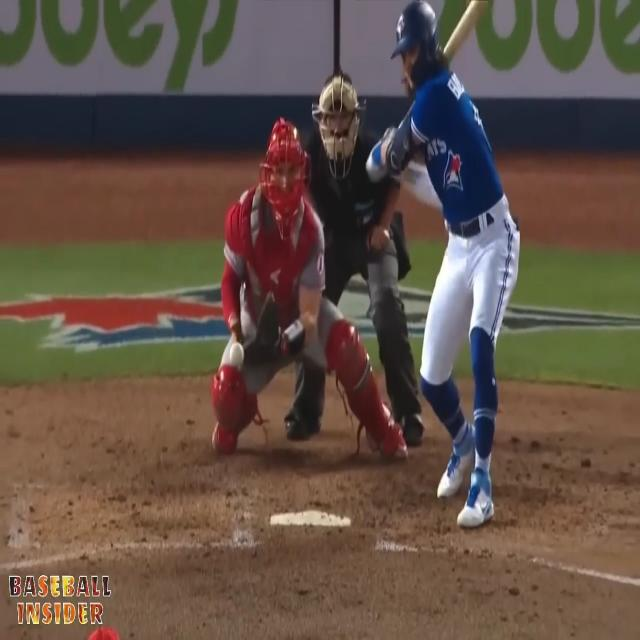baseball: (229, 342, 244, 368)
